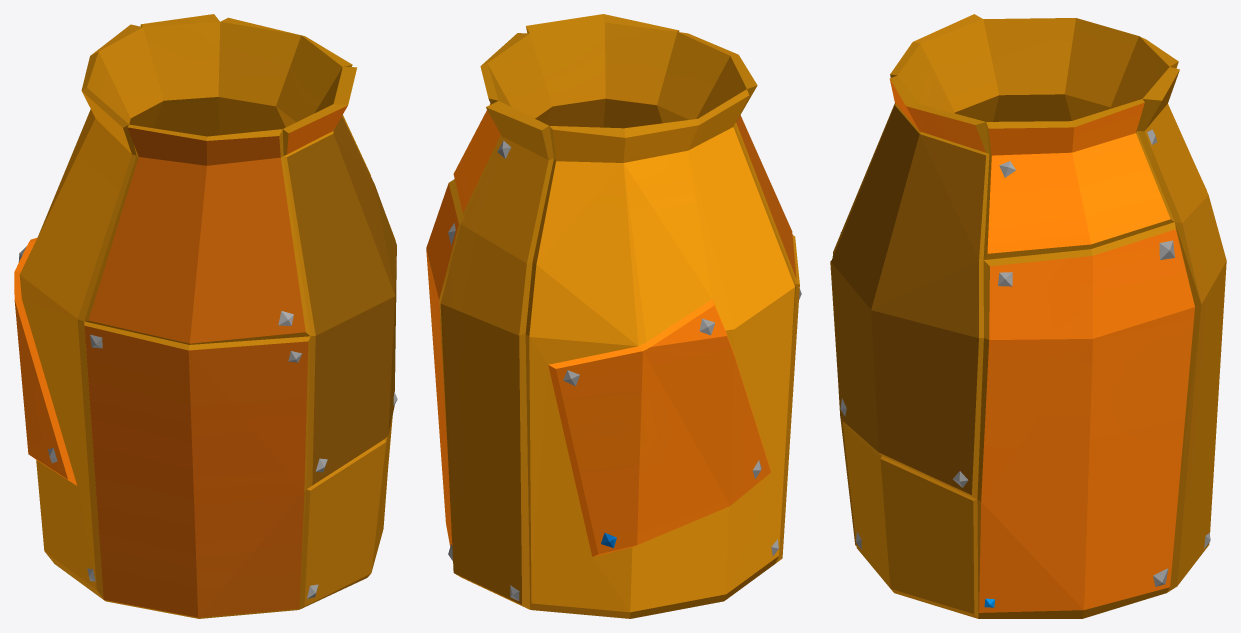
File: obj_vase01_alt.gltf
The picture shows the model from 3 angles, left to right: view 1: azimuth 30°, elevation 25°; view 2: azimuth 150°, elevation 25°; view 3: azimuth 270°, elevation 25°; orthographic projection.
Visible parts, largest first — view 1: obj_vase01_alt; view 2: obj_vase01_alt; view 3: obj_vase01_alt.
Boxes of the visible parts, bbox=[...] form: obj_vase01_alt: bbox=[14, 14, 397, 618]; obj_vase01_alt: bbox=[426, 14, 801, 618]; obj_vase01_alt: bbox=[830, 14, 1226, 618].
Size of what is drawn, in the model's own units: 0.5638 by 0.7976 by 0.5927.
Materials: 1 (1 with a texture image).
